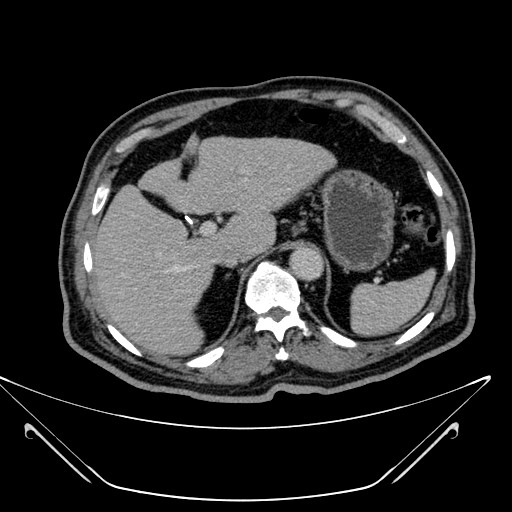clipe: (184, 215, 194, 225)
